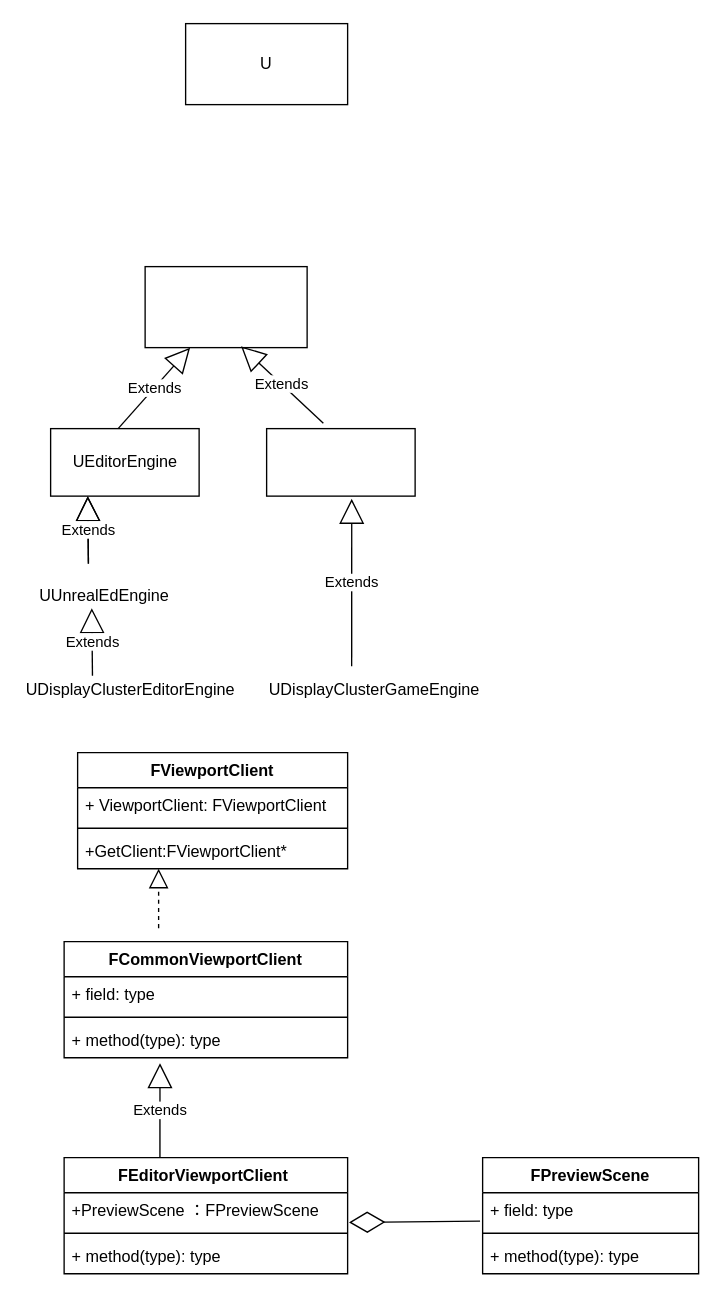
Some shapes in this 722 by 1301 pixel diagram are drawn without their labels. The shapes that lost their labels are listed below. From the top down, each one's centre as x and y in pixels, then its label:
pixel 225 306: UEngine
pixel 340 461: UGameEngine
